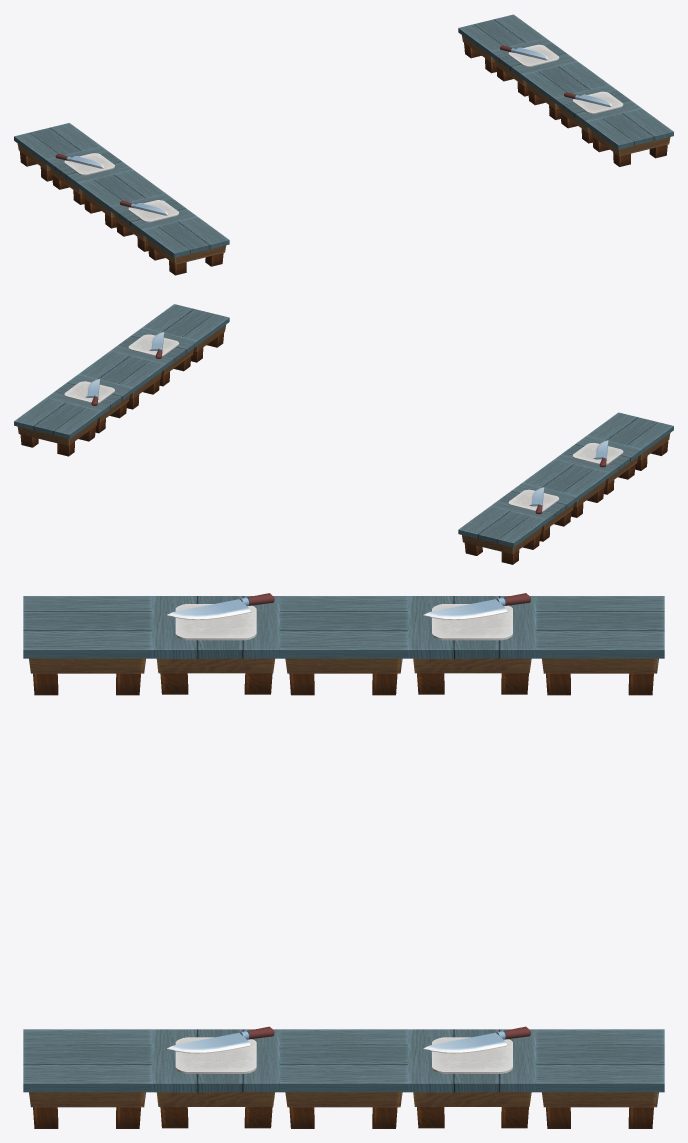
The model's file is Sliding_Gameplay.fbx.
3 views of the same model, one above another, from view 1: azimuth 30°, elevation 25°; view 2: azimuth 150°, elevation 25°; view 3: azimuth 270°, elevation 25° (orthographic). The views are drawn at different scales.
Parts seen in each view (by area): view 1: Worktop (×10), ChoppingBoard2 (×4); view 2: Worktop (×10), ChoppingBoard2 (×4); view 3: Worktop (×10), ChoppingBoard2 (×4), Knife (×4).
Part boxes in pixels (x1,y1,x2,y2): Worktop (×10): (14, 14, 673, 275); ChoppingBoard2 (×4): (64, 44, 623, 222); Worktop (×10): (14, 304, 673, 564); ChoppingBoard2 (×4): (64, 334, 623, 511); Worktop (×10): (23, 596, 664, 1128); ChoppingBoard2 (×4): (175, 604, 512, 1073); Knife (×4): (167, 593, 530, 1053).
Bounding box in the file's own units: 10.8 × 0.6324 × 6.
3 materials, 3 textured.
